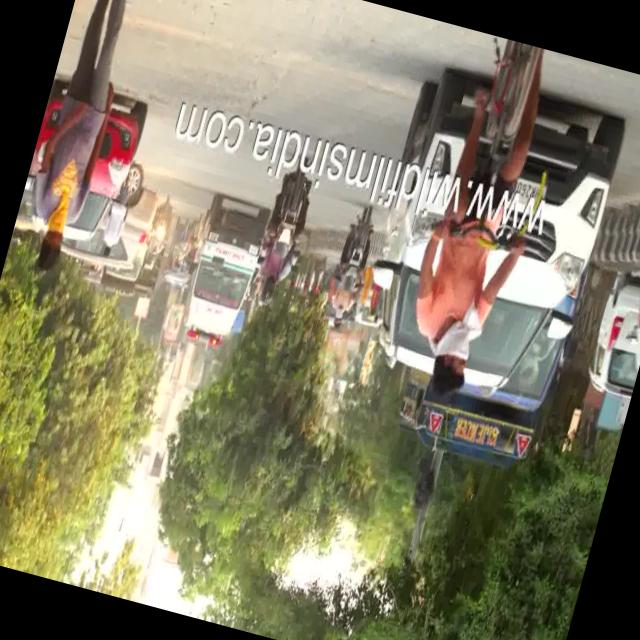ambulance: (172, 204, 274, 360)
